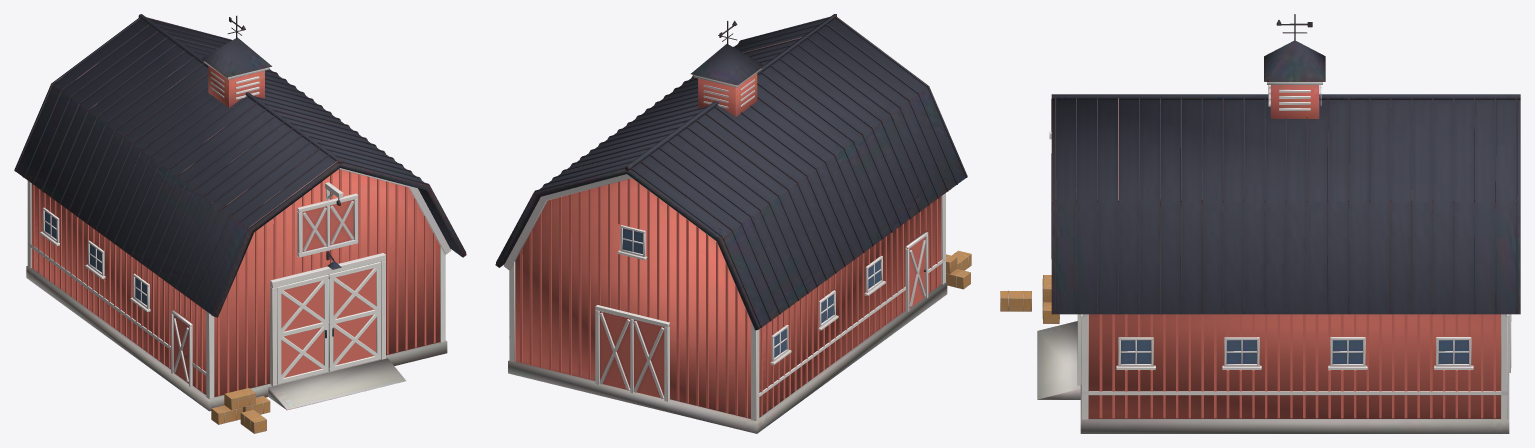
The model's file is barn.glb.
3 renders of one model, left to right at view 1: azimuth 30°, elevation 25°; view 2: azimuth 150°, elevation 25°; view 3: azimuth 270°, elevation 25°, orthographic. The views are drawn at different scales.
Visible parts, largest first — view 1: barn_body, barn_barn_door_left, barn_trim; view 2: barn_body, barn_barn_door_left, barn_trim; view 3: barn_body, barn_trim, barn_barn_door_left.
Boxes of the visible parts, bbox=[...] form: barn_body: bbox=[14, 14, 466, 411]; barn_barn_door_left: bbox=[32, 169, 435, 395]; barn_trim: bbox=[22, 15, 451, 433]; barn_body: bbox=[495, 14, 967, 433]; barn_barn_door_left: bbox=[520, 179, 937, 417]; barn_trim: bbox=[504, 20, 971, 421]; barn_body: bbox=[1037, 40, 1520, 433]; barn_trim: bbox=[1000, 14, 1511, 419]; barn_barn_door_left: bbox=[1099, 314, 1495, 418].
Size of the model in its own units: 9.79 by 11 by 14.75.
Materials: 5 (2 with a texture image).
